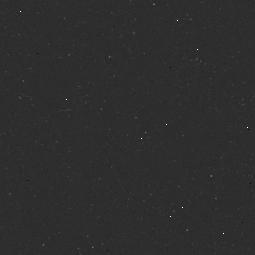earth_observation_sat_1: (24, 68, 94, 129)
